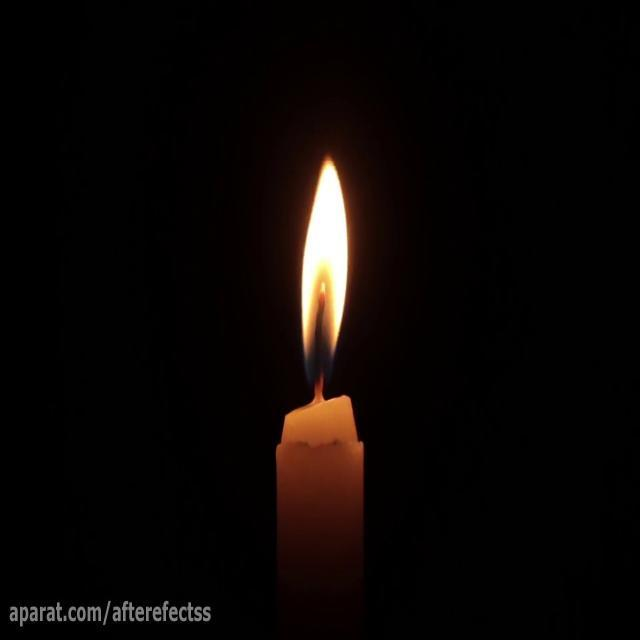Fire: (292, 155, 371, 422)
